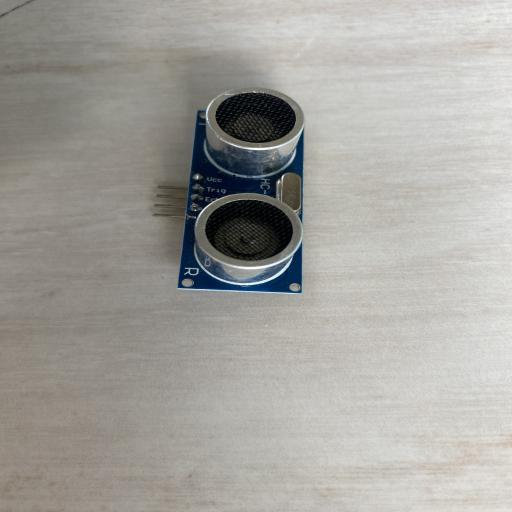Ultrasonic Sensor: (152, 86, 305, 295)
